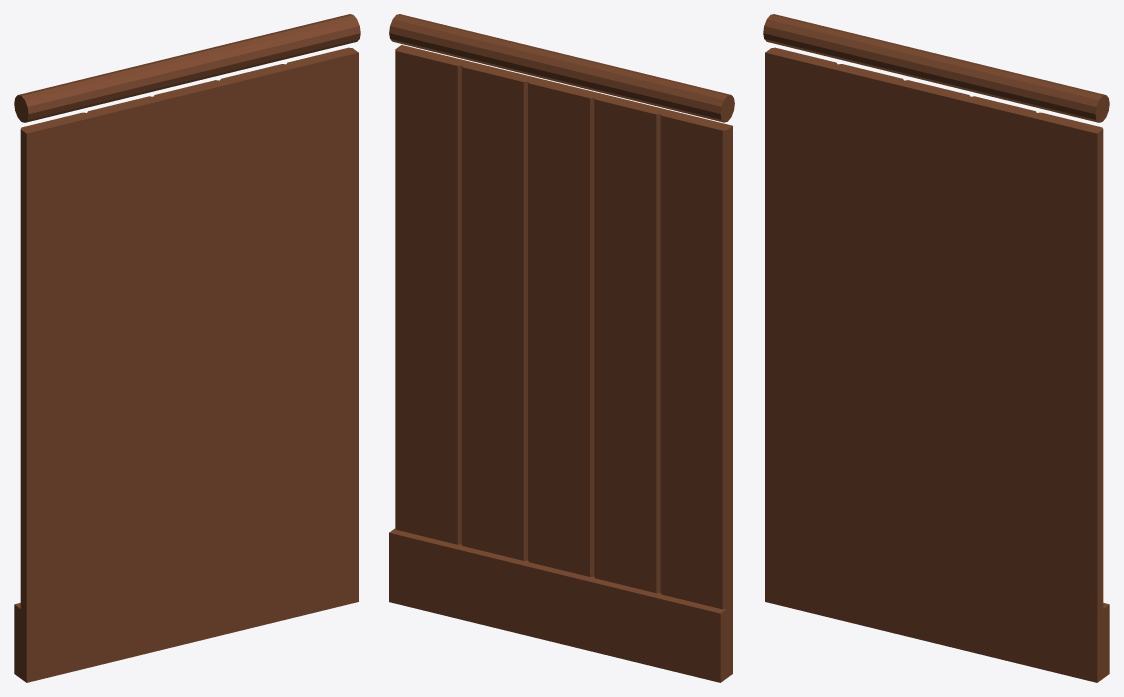
Rendered from lambri_0_5m_madeira.glb.
3 renders of one model, left to right at view 1: azimuth 30°, elevation 25°; view 2: azimuth 150°, elevation 25°; view 3: azimuth 330°, elevation 25°, orthographic.
Visible parts, largest first — view 1: lambri_0_5m_madeira; view 2: lambri_0_5m_madeira; view 3: lambri_0_5m_madeira.
Boxes of the visible parts, x1,y1,x2,y2 form: lambri_0_5m_madeira: [14, 14, 360, 682]; lambri_0_5m_madeira: [389, 14, 734, 682]; lambri_0_5m_madeira: [763, 14, 1109, 682].
Size of the model in its own units: 0.5 by 0.8388 by 0.0375.
